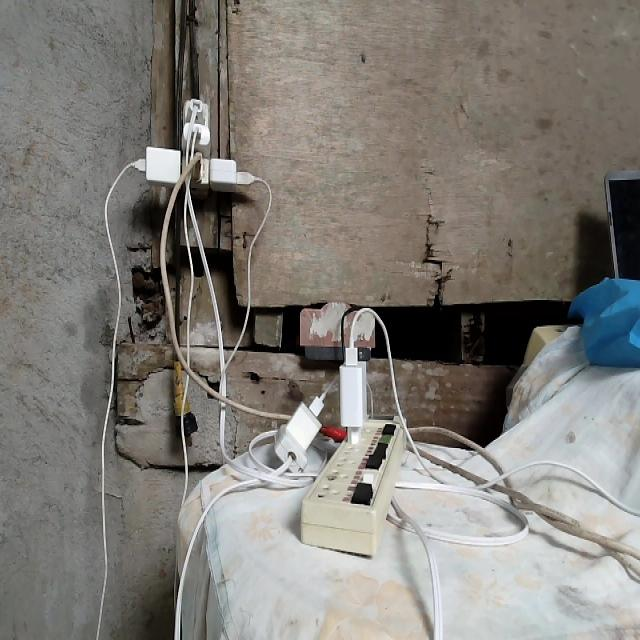-: (131, 94, 258, 194)
